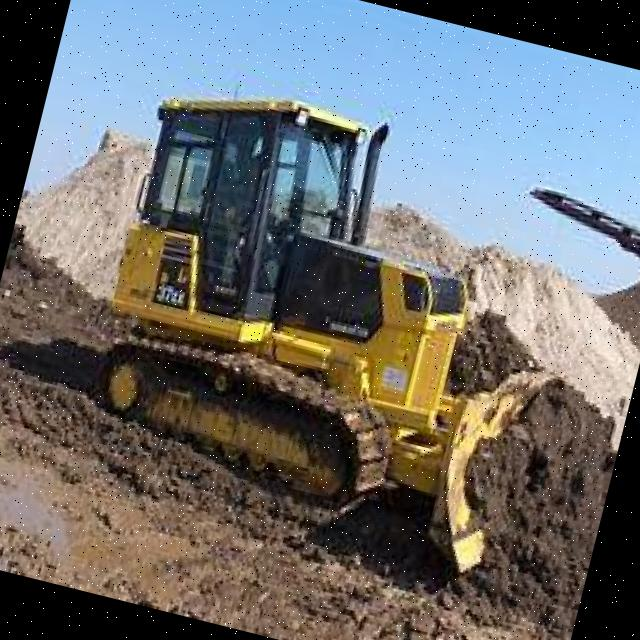Bulldozer: (23, 46, 640, 640)
